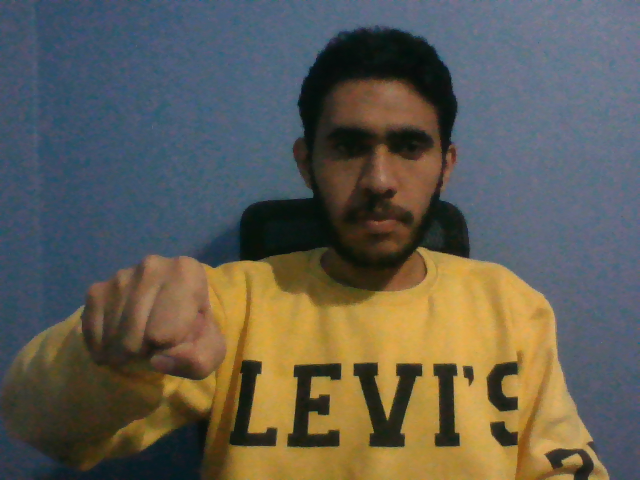yes: (80, 250, 236, 388)
